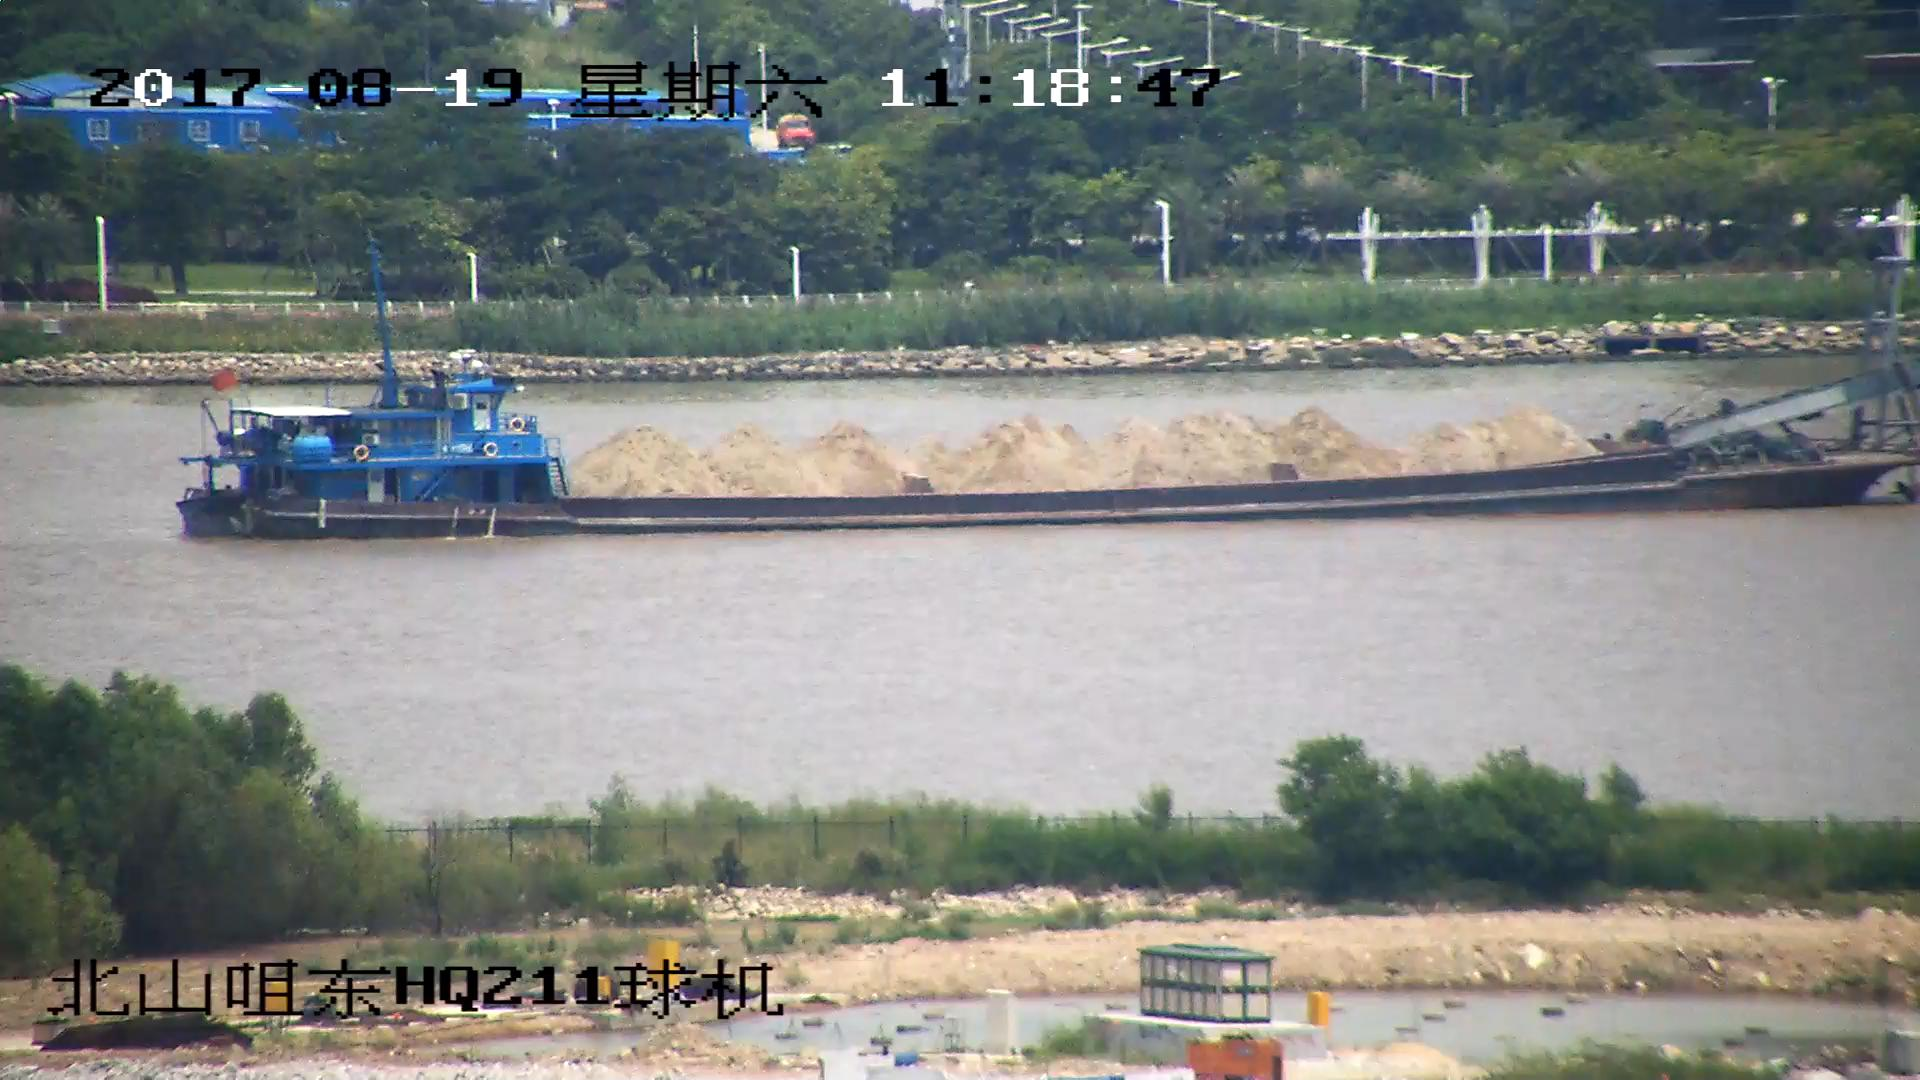ore carrier: (176, 249, 1920, 543)
